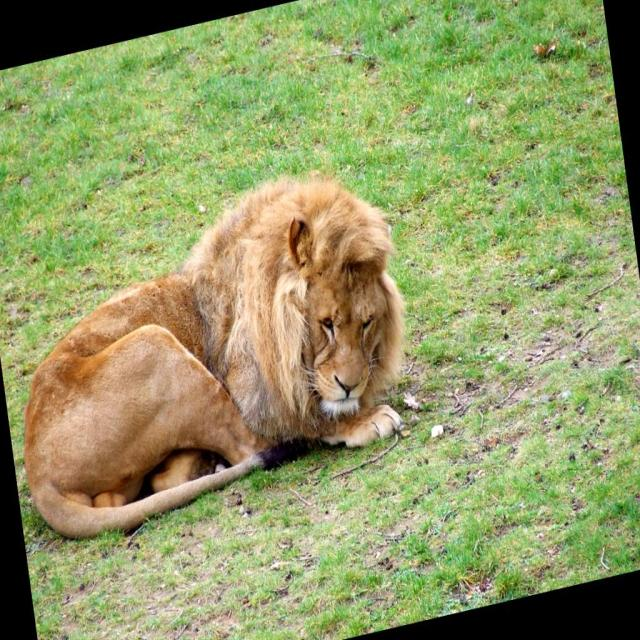Lion: (0, 143, 428, 555)
